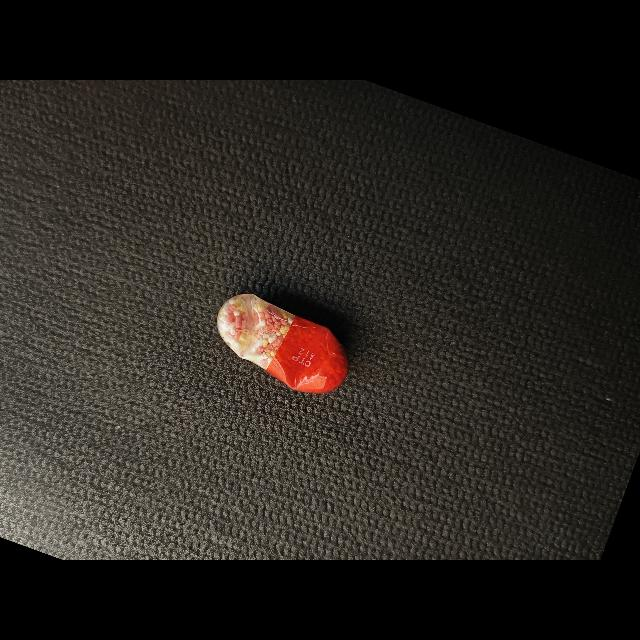Defective Capsule: (217, 294, 348, 393)
